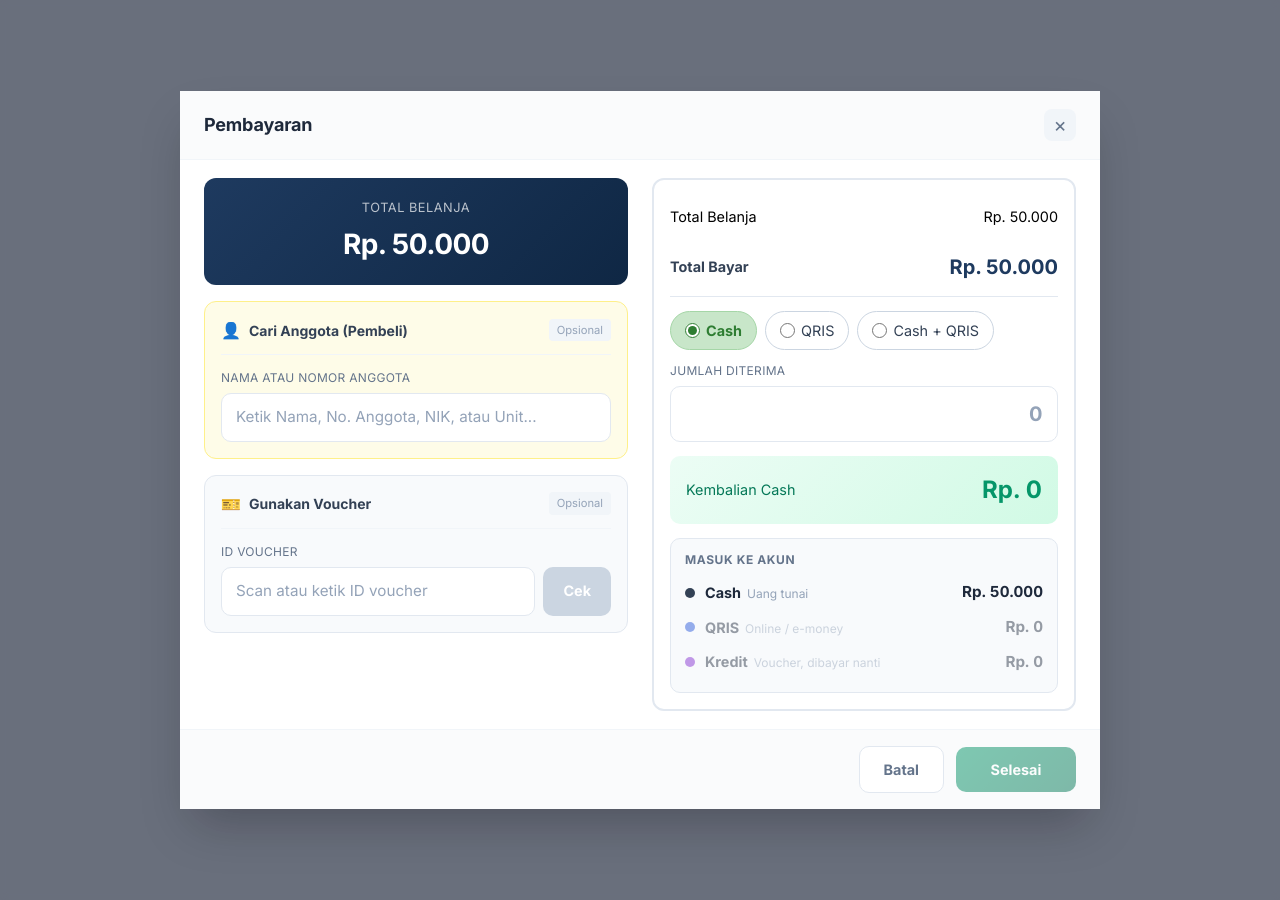
Test: PaymentModal voucher checkout › blocks checkout while the cash received is short
The image size is (1280, 900).
Type "20000" into the field with placeholder "0". click: coordinates (864, 414)
box: [670,386,1058,442]
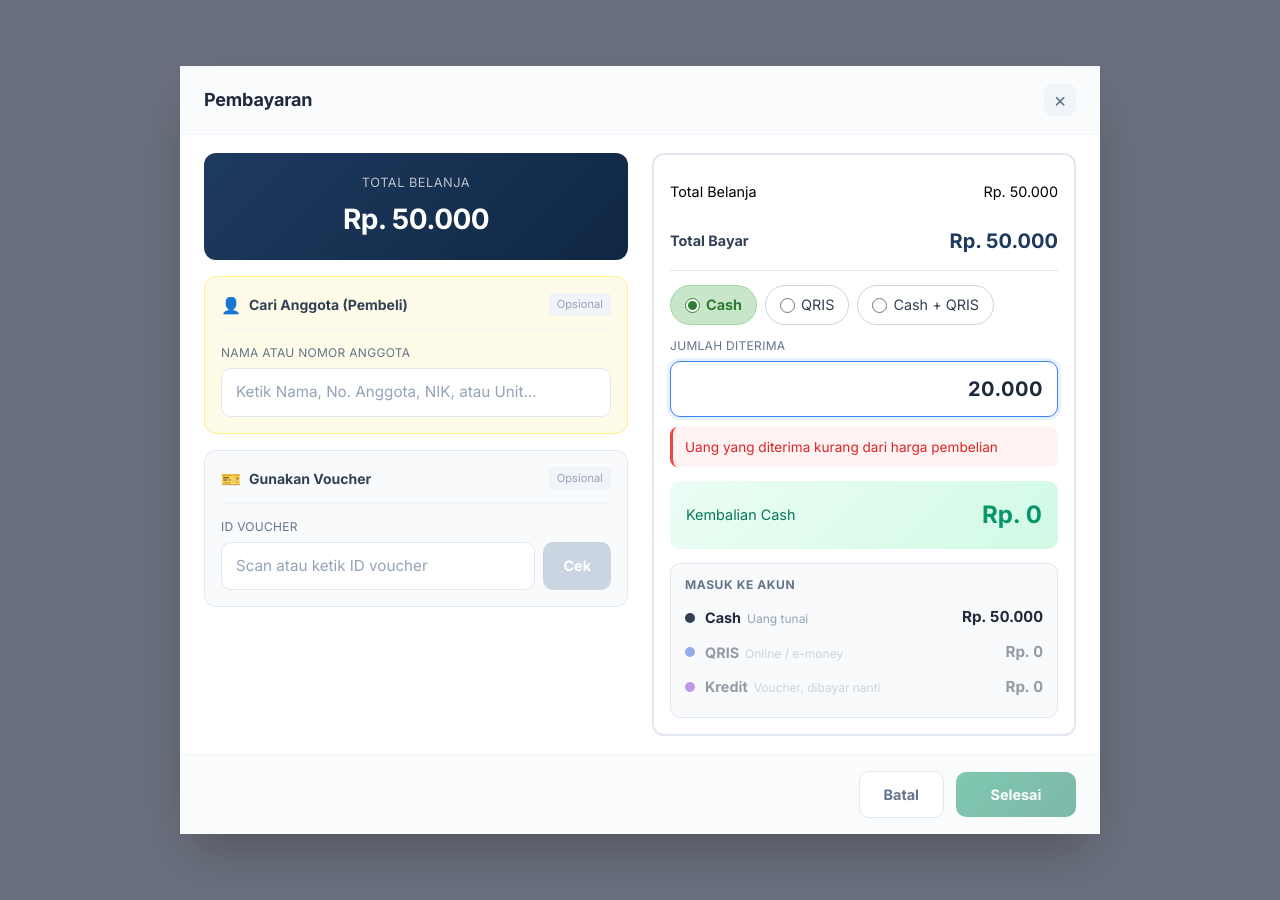
Expected: the button "Selesai" is disabled, [956,772,1076,817]
Expected: the text "Uang yang diterima kurang dari harga pembelian" is shown, [670,427,1058,467]
